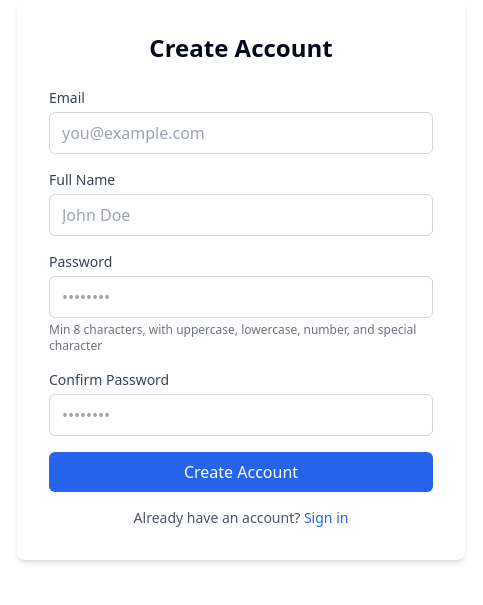
Test case: RegisterForm › validates password strength
The image size is (483, 605).
Type "test@example.com" into the field labelled "Email" at (241, 133), box [49,112,433,154]
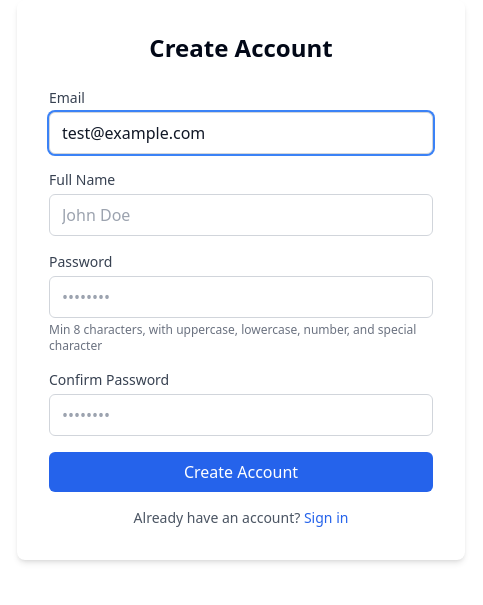
Type "Test User" into the field labelled "Full Name" at (241, 215), box [49,194,433,236]
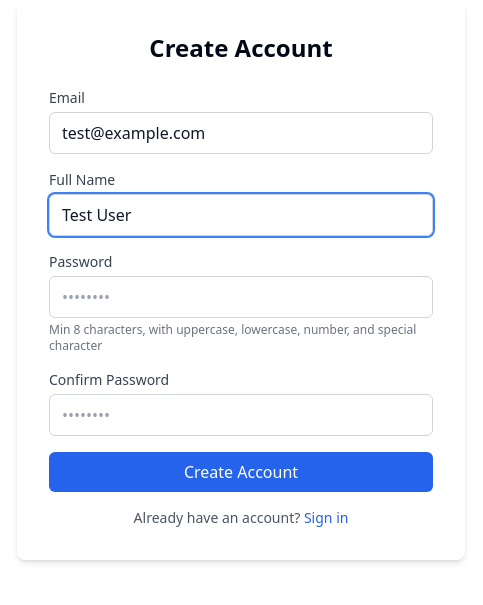
Type "weak" into the password field labelled "Password" at (241, 297), box [49,276,433,318]
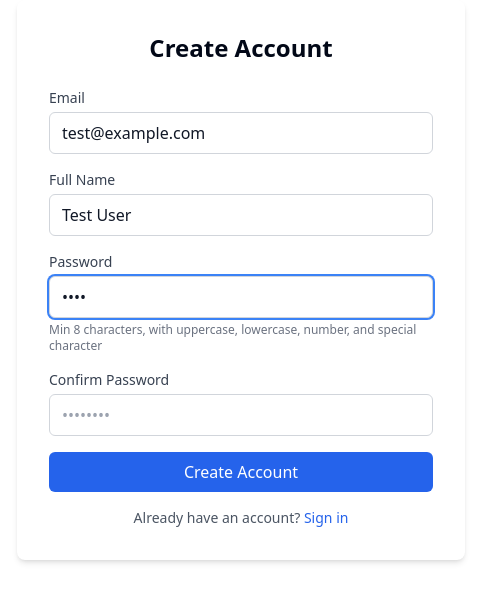
Type "weak" into the password field labelled "Confirm Password" at (241, 415), box [49,394,433,436]
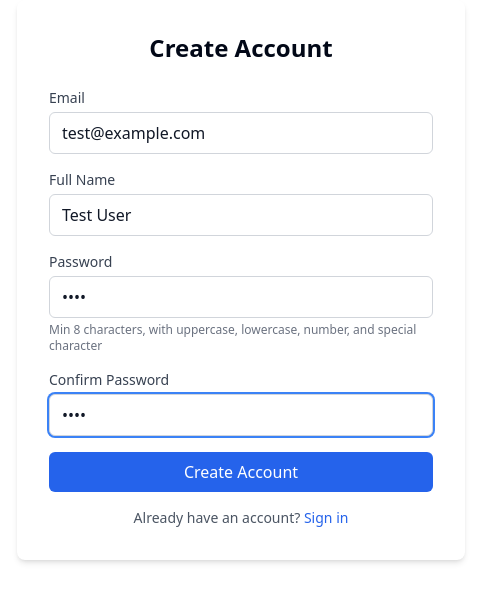
Click the button "Create Account" at (241, 472), box [49,452,433,492]
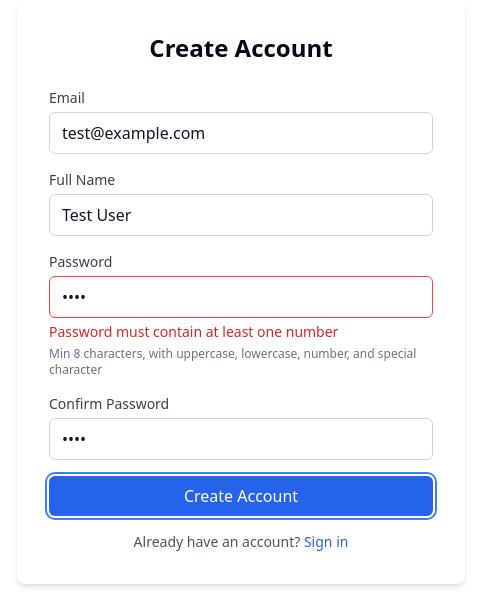
Check: the text "Password must contain at least one number" is shown, box [49,322,338,341]
